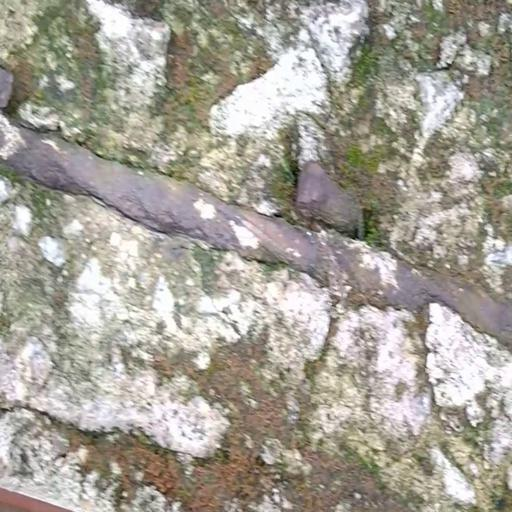spalling: (0, 6, 512, 512)
